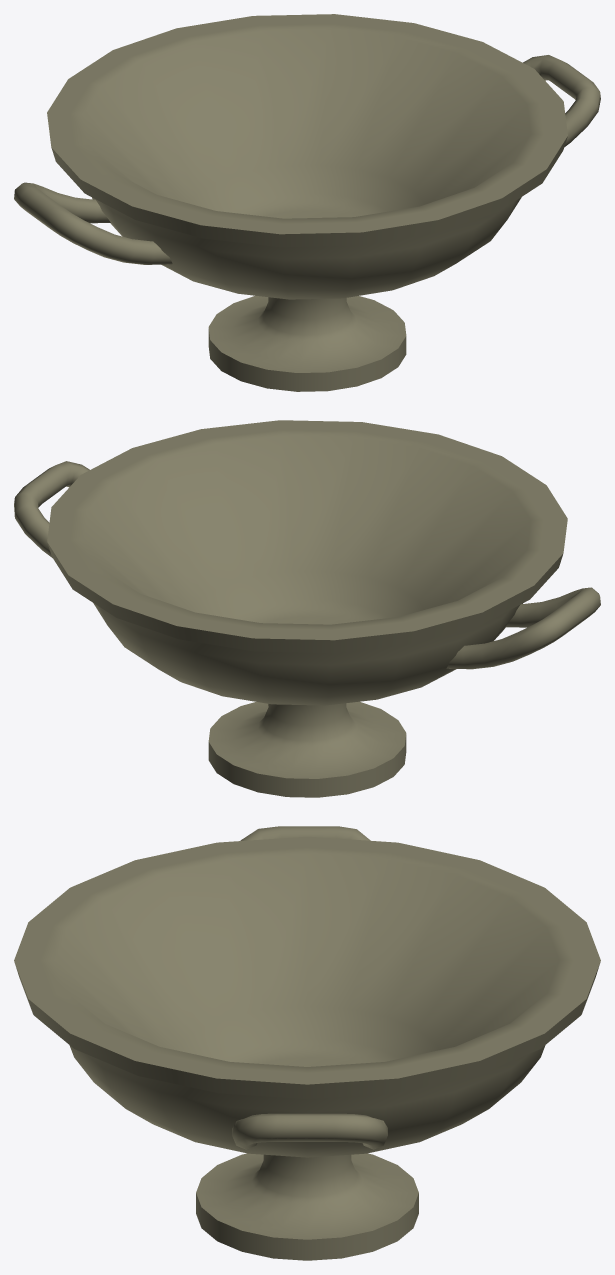
File: WM_WidePot.fbx
The picture shows the model from 3 angles, top to bottom: view 1: azimuth 30°, elevation 25°; view 2: azimuth 150°, elevation 25°; view 3: azimuth 270°, elevation 25°; orthographic projection. The views are drawn at different scales.
Visible parts, largest first — view 1: Cylinder.003; view 2: Cylinder.003; view 3: Cylinder.003.
Boxes of the visible parts, x1=… form: Cylinder.003: x1=14, y1=14, x2=600, y2=391; Cylinder.003: x1=14, y1=420, x2=600, y2=797; Cylinder.003: x1=14, y1=826, x2=600, y2=1260.
Size of the model in its own units: 4.39 by 1.73 by 3.63.
